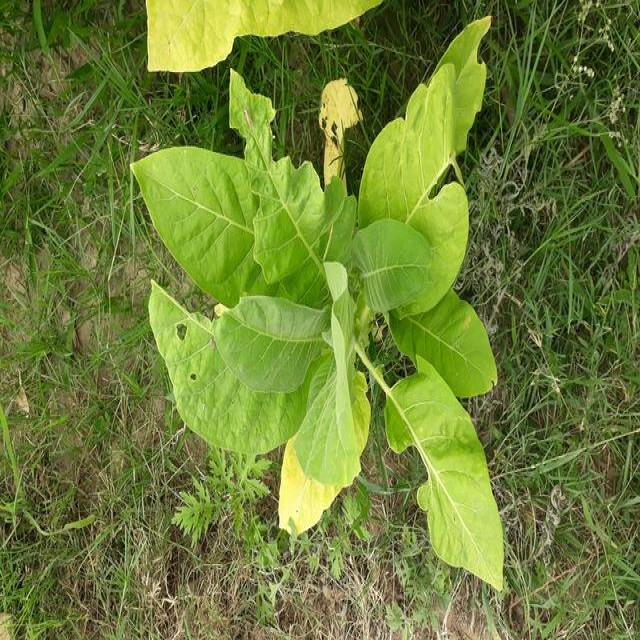crop: (131, 19, 508, 590)
